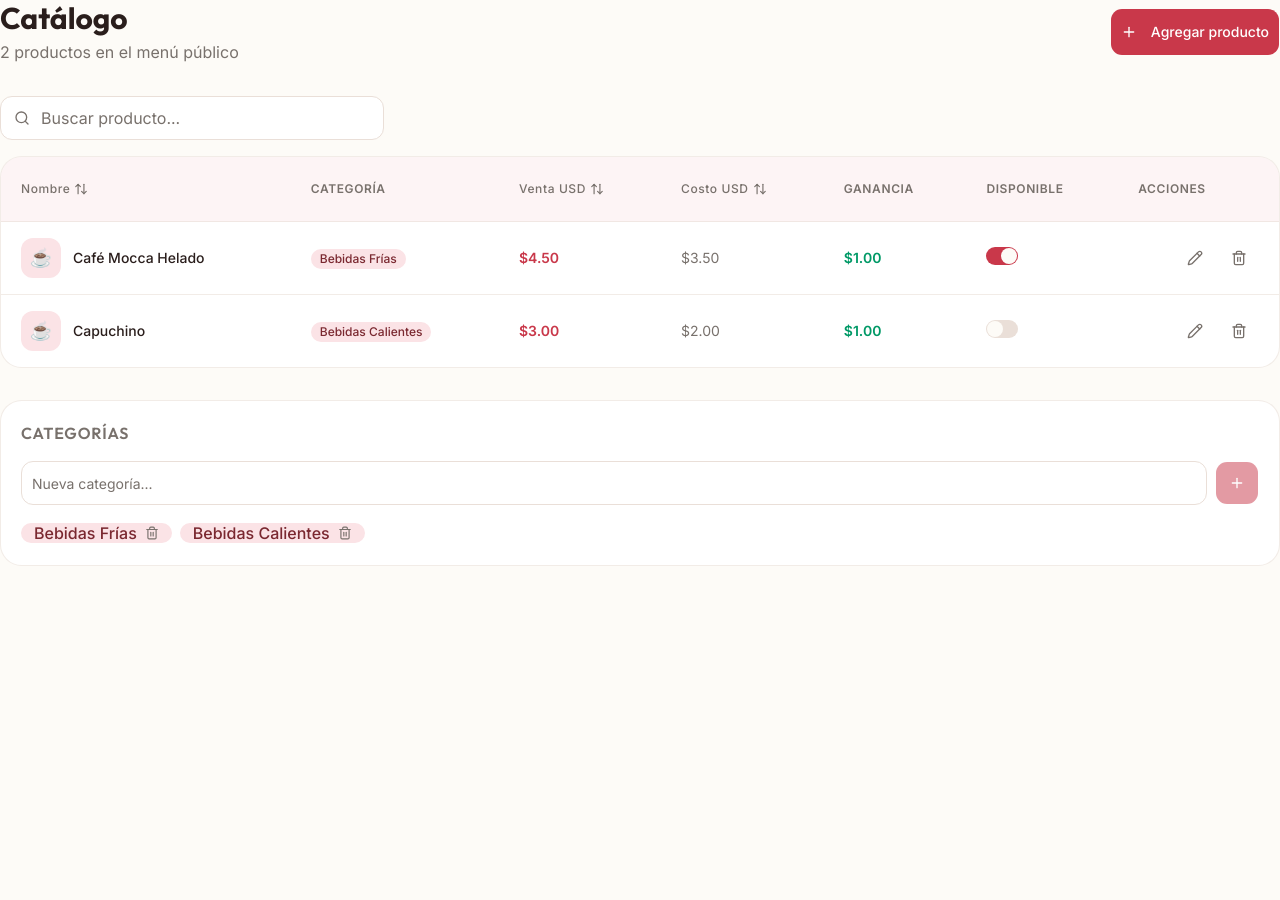
it: CatalogoCliente › rechaza el guardado si el precio de venta es menor que el costo
The image size is (1280, 900).
Click the button "Agregar producto" at (1195, 32), box [1110,8,1279,56]
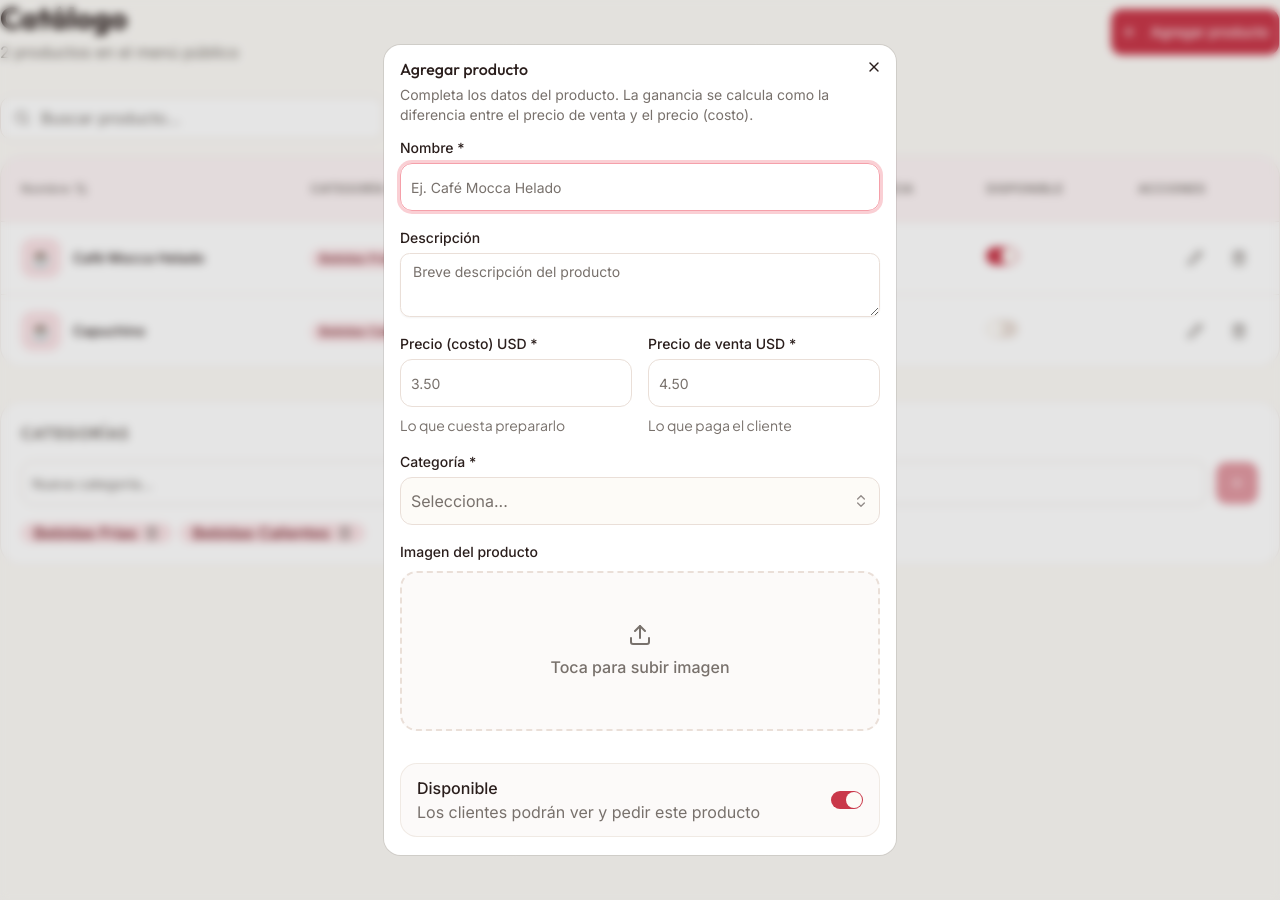
Type "Nuevo café" into the field labelled "Nombre *" at (640, 187), box [400,163,880,211]
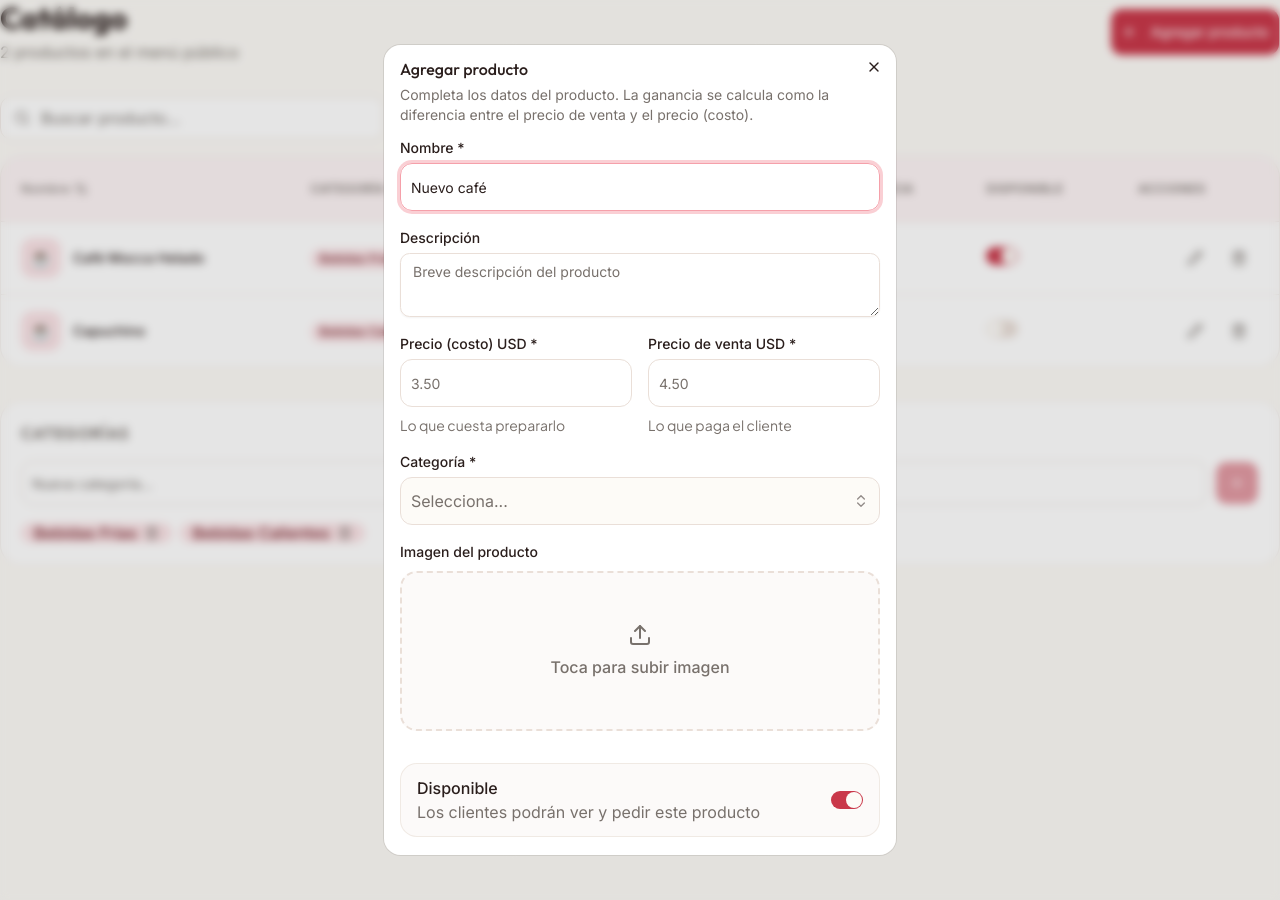
Type "5" into the number field labelled "Precio (costo) USD *" at (516, 383), box [400,359,632,407]
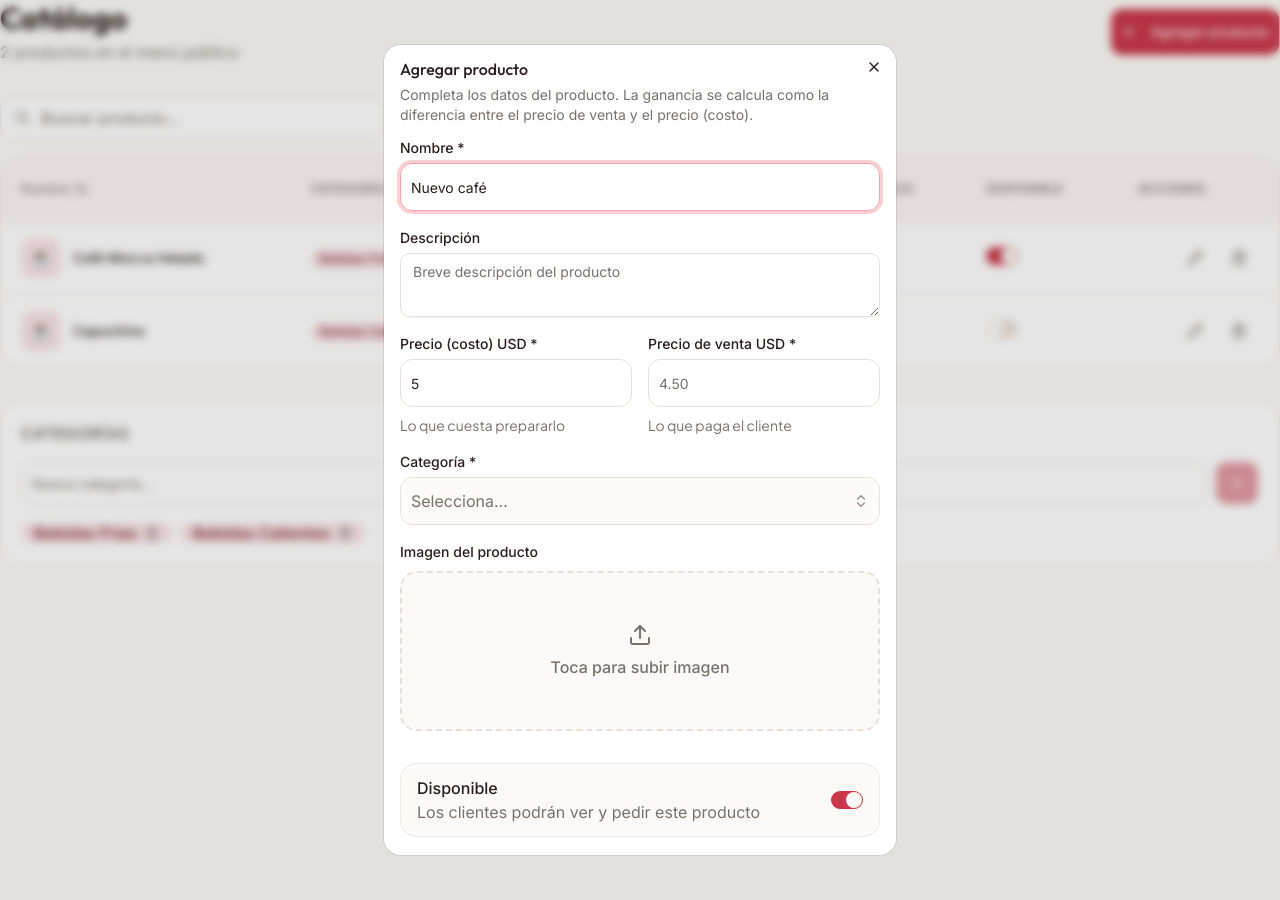
Type "4" into the number field labelled "Precio de venta USD *" at (764, 383), box [648,359,880,407]
(page scrolled)
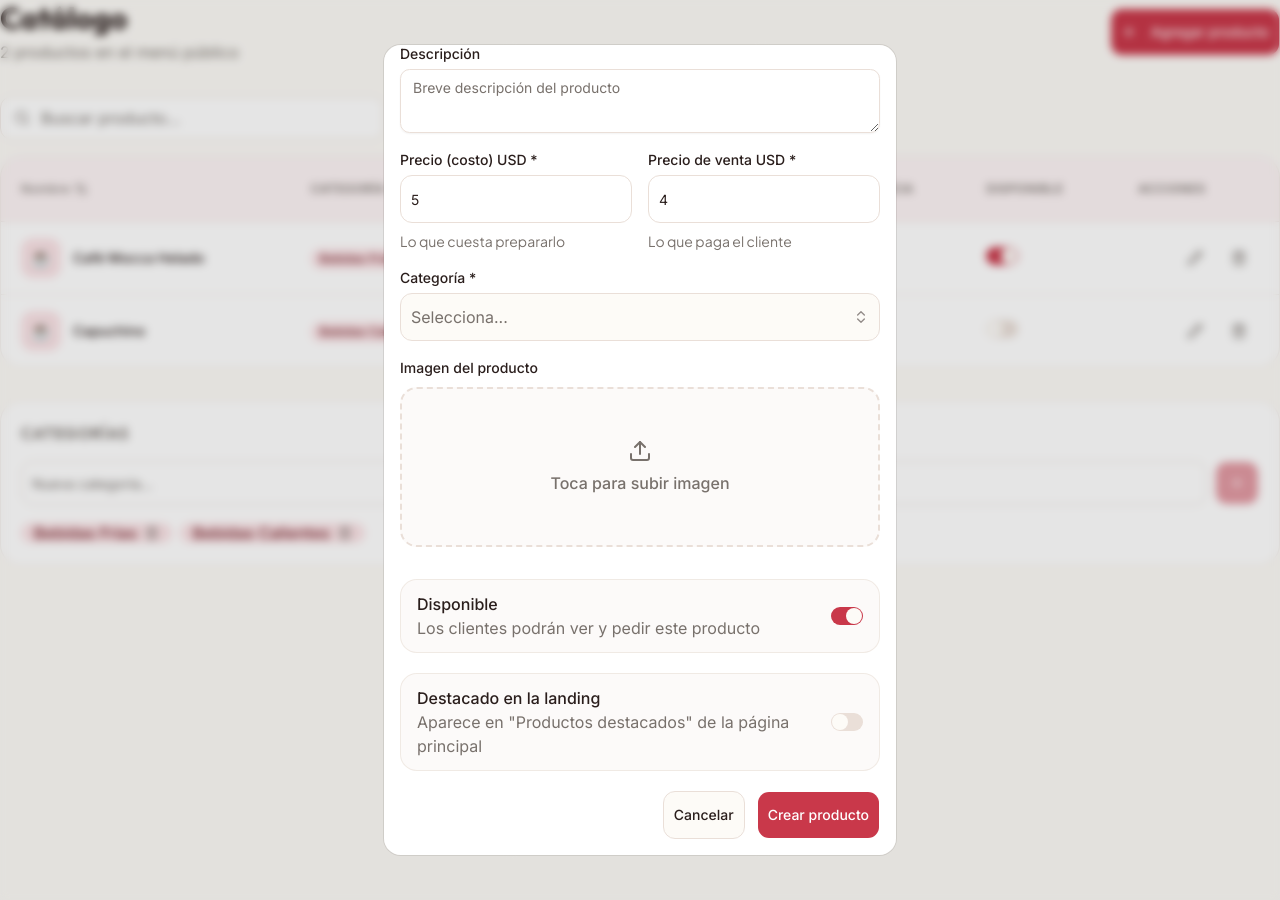
Click the button "Crear producto" at (818, 815), box [757,791,880,839]
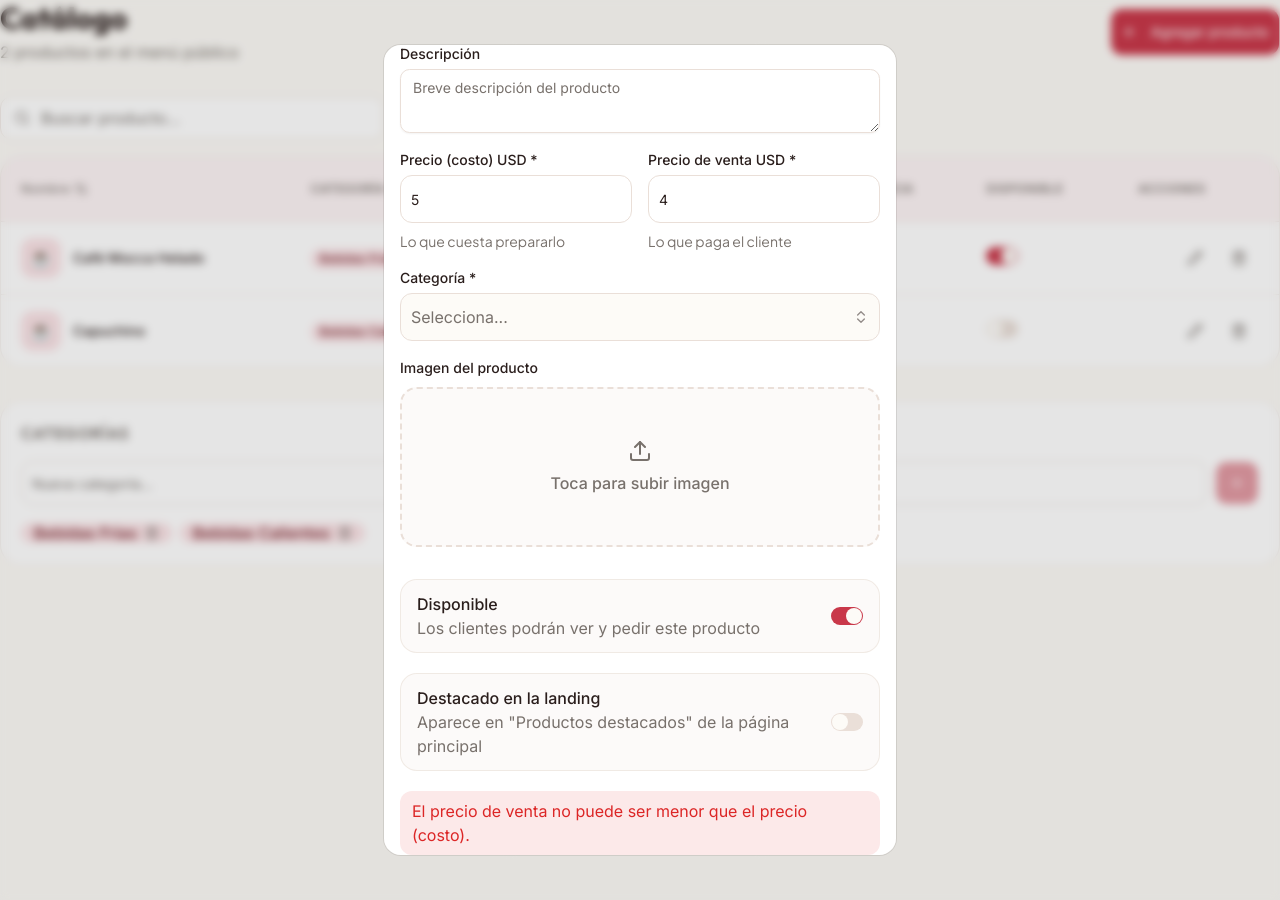
Expected: the text "El precio de venta no puede ser menor que el precio (costo)." is shown, [400,791,880,855]
